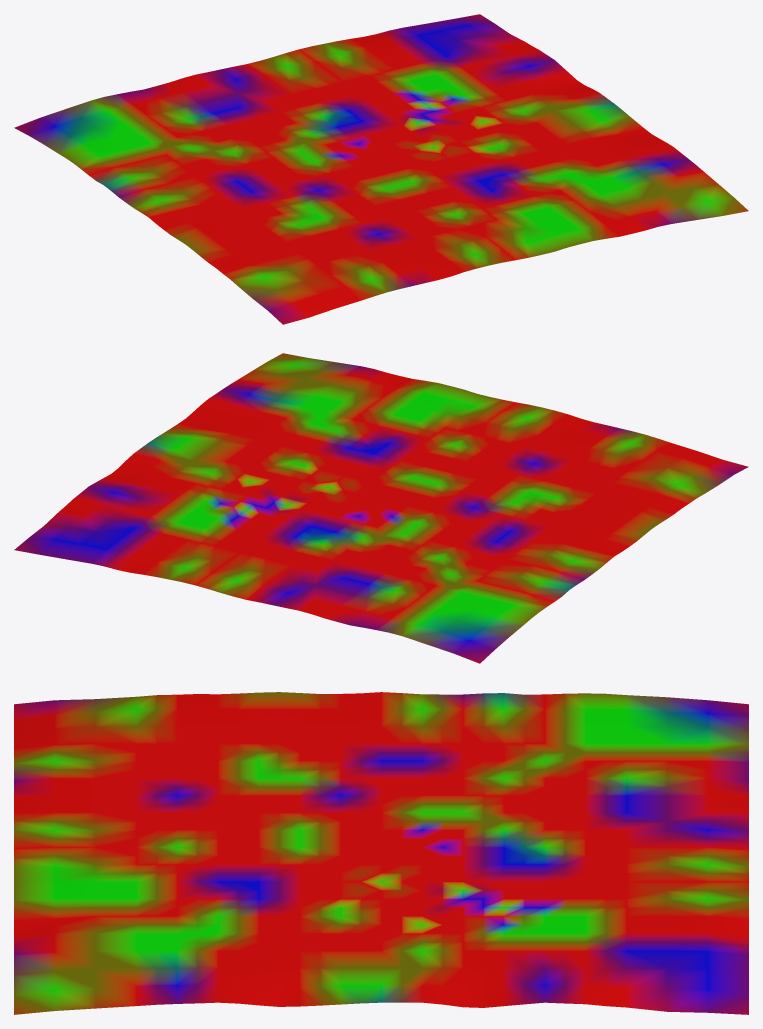
Rendered from MS_BroadGround01.fbx.
3 views of the same model, one above another, from view 1: azimuth 30°, elevation 25°; view 2: azimuth 150°, elevation 25°; view 3: azimuth 270°, elevation 25° (orthographic). The views are drawn at different scales.
Parts seen in each view (by area): view 1: MS_BroadGround01; view 2: MS_BroadGround01; view 3: MS_BroadGround01.
Part boxes in pixels (bbox=[...]): MS_BroadGround01: bbox=[14, 14, 748, 324]; MS_BroadGround01: bbox=[14, 353, 748, 663]; MS_BroadGround01: bbox=[14, 692, 748, 1014].
Size of the model in its own units: 9000 by 165 by 9000.
